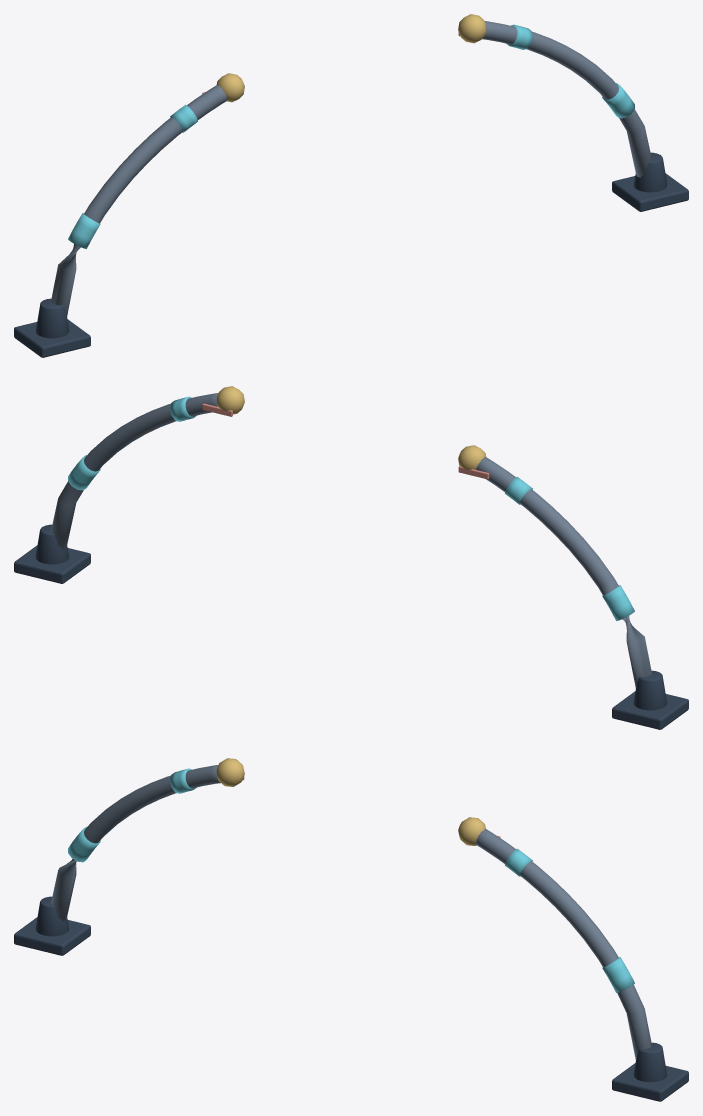
The model's file is Arch.fbx.
The picture shows the model from 3 angles, top to bottom: view 1: azimuth 30°, elevation 25°; view 2: azimuth 150°, elevation 25°; view 3: azimuth 330°, elevation 25°; orthographic projection.
Visible parts, largest first — view 1: Arch; view 2: Arch; view 3: Arch.
Part boxes in pixels (left/top/right/bottom): Arch: left=14, top=14, right=688, bottom=357; Arch: left=14, top=386, right=688, bottom=729; Arch: left=14, top=758, right=688, bottom=1101.
Size of the model in its own units: 18.2 by 6.08 by 1.4.
